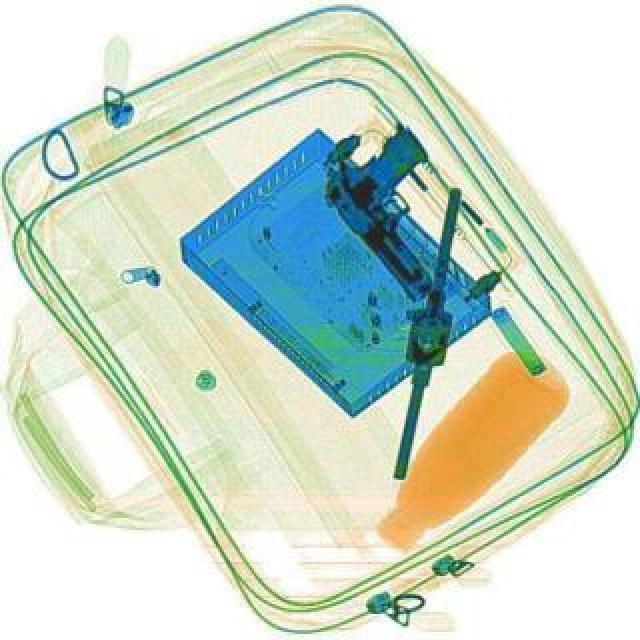gun: (306, 116, 502, 304)
